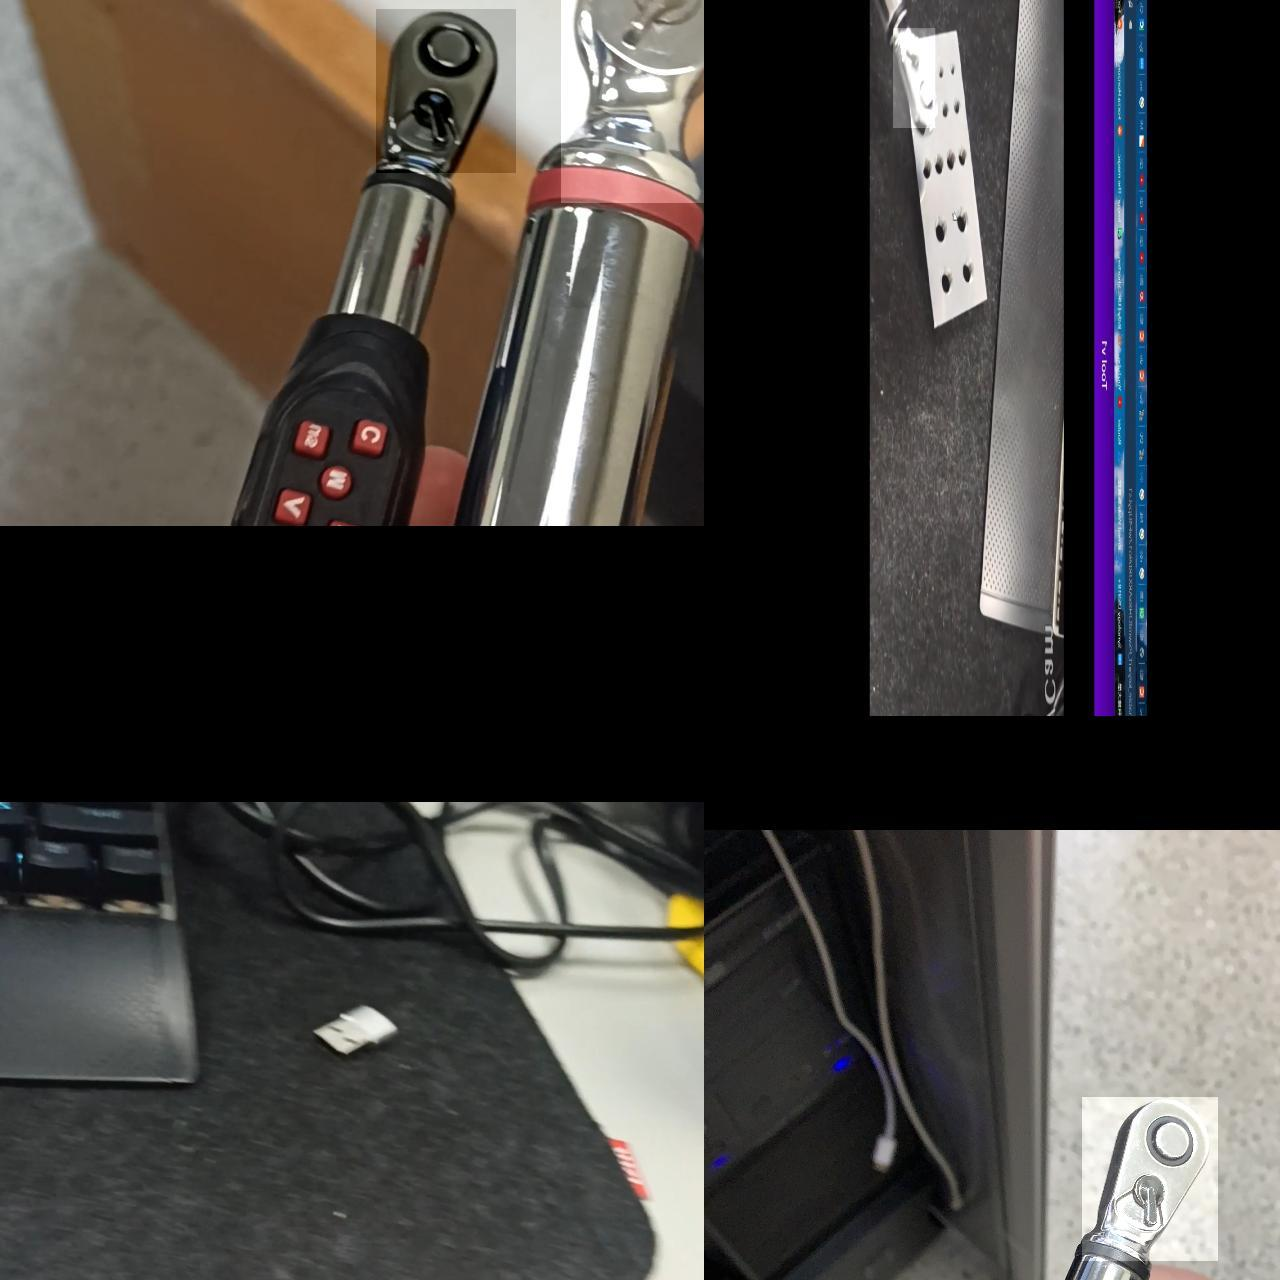Tool: (561, 0, 704, 202), (376, 8, 516, 172), (1082, 1096, 1218, 1260), (892, 27, 935, 127)
